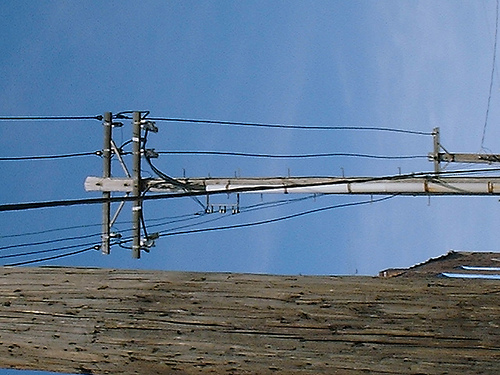pole: (91, 110, 498, 261), (425, 127, 499, 174)
